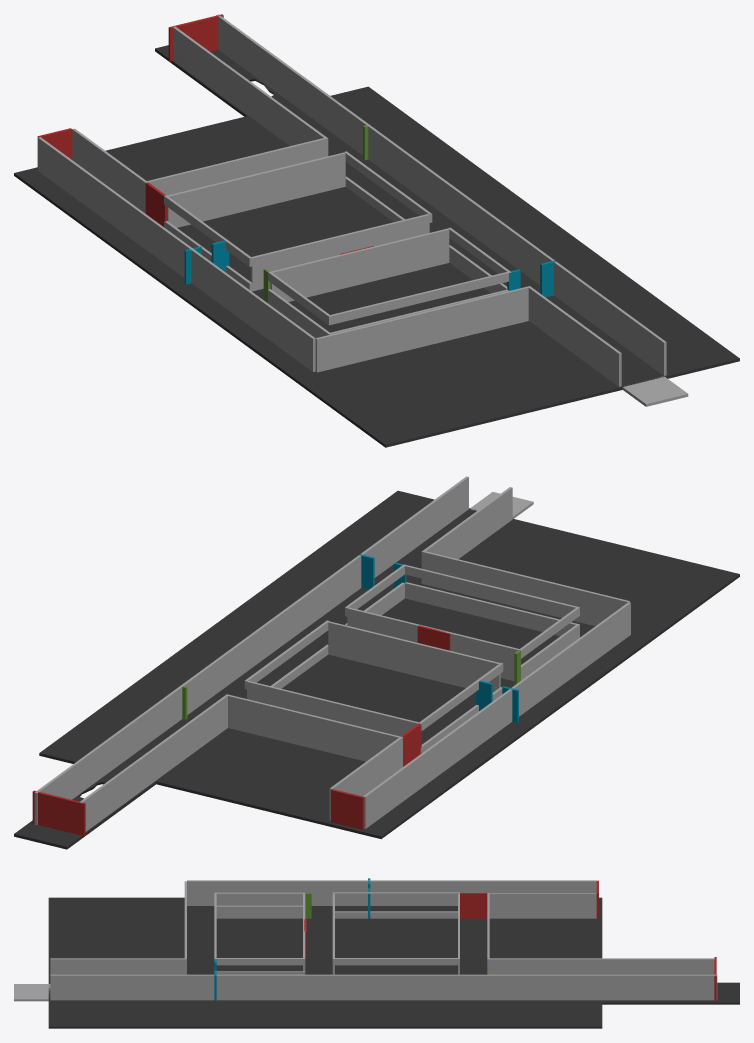
File: Level1BlockoutTest 1.fbx
3 renders of one model, top to bottom at view 1: azimuth 30°, elevation 25°; view 2: azimuth 150°, elevation 25°; view 3: azimuth 270°, elevation 25°, orthographic. The views are drawn at different scales.
Visible parts, largest first — view 1: pCube45, pCube33, pCube4, pCube30, pCube26, pCube34, pCube2, pCube25, pCube8, pCube3, pCube32, pCube21 (+12 smaller); view 2: pCube45, pCube33, pCube25, pCube32, pCube34, pCube4, pCube2, pCube21, pCube30, pCube8, pCube18, pCube26 (+18 smaller); view 3: pCube45, pCube33, pCube2, pCube34, pCube8, pCube20, pCube18, pCube3, pCube21, pCube28, pCube9, pCube39 (+9 smaller).
Boxes of the visible parts, <box> form: pCube45: <box>14,86,739,447</box>; pCube33: <box>216,14,511,262</box>; pCube4: <box>315,286,528,372</box>; pCube30: <box>167,152,345,227</box>; pCube26: <box>270,228,449,301</box>; pCube34: <box>173,26,328,156</box>; pCube2: <box>554,261,666,375</box>; pCube25: <box>250,214,429,291</box>; pCube8: <box>221,271,315,371</box>; pCube3: <box>528,286,621,386</box>; pCube32: <box>147,138,325,195</box>; pCube21: <box>38,137,131,237</box>; pCube45: <box>39,490,739,839</box>; pCube33: <box>34,585,320,824</box>; pCube25: <box>328,621,500,692</box>; pCube32: <box>228,695,400,761</box>; pCube34: <box>80,694,228,831</box>; pCube4: <box>424,551,629,625</box>; pCube2: <box>361,476,468,577</box>; pCube21: <box>363,731,453,828</box>; pCube30: <box>247,681,418,736</box>; pCube8: <box>540,602,630,699</box>; pCube18: <box>452,667,542,763</box>; pCube26: <box>347,607,519,680</box>; pCube45: <box>48,897,602,1028</box>; pCube33: <box>280,974,717,1000</box>; pCube2: <box>50,974,214,1000</box>; pCube34: <box>487,958,714,974</box>; pCube8: <box>187,880,323,905</box>; pCube20: <box>487,893,596,918</box>; pCube18: <box>323,880,459,905</box>; pCube3: <box>50,958,186,974</box>; pCube21: <box>460,880,596,892</box>; pCube28: <box>216,974,280,1000</box>; pCube9: <box>216,905,302,918</box>; pCube39: <box>332,958,459,965</box>.
Size of the model in its own units: 3349 by 329 by 7974.
